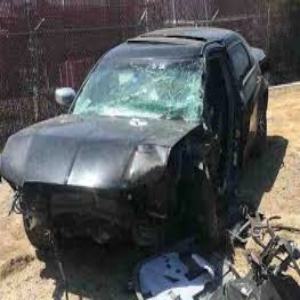bonnet: (19, 118, 171, 192)
bumper: (27, 186, 180, 257)
front_windshield_glass: (92, 64, 202, 118)
